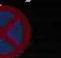No Stopping: (0, 3, 30, 57)
